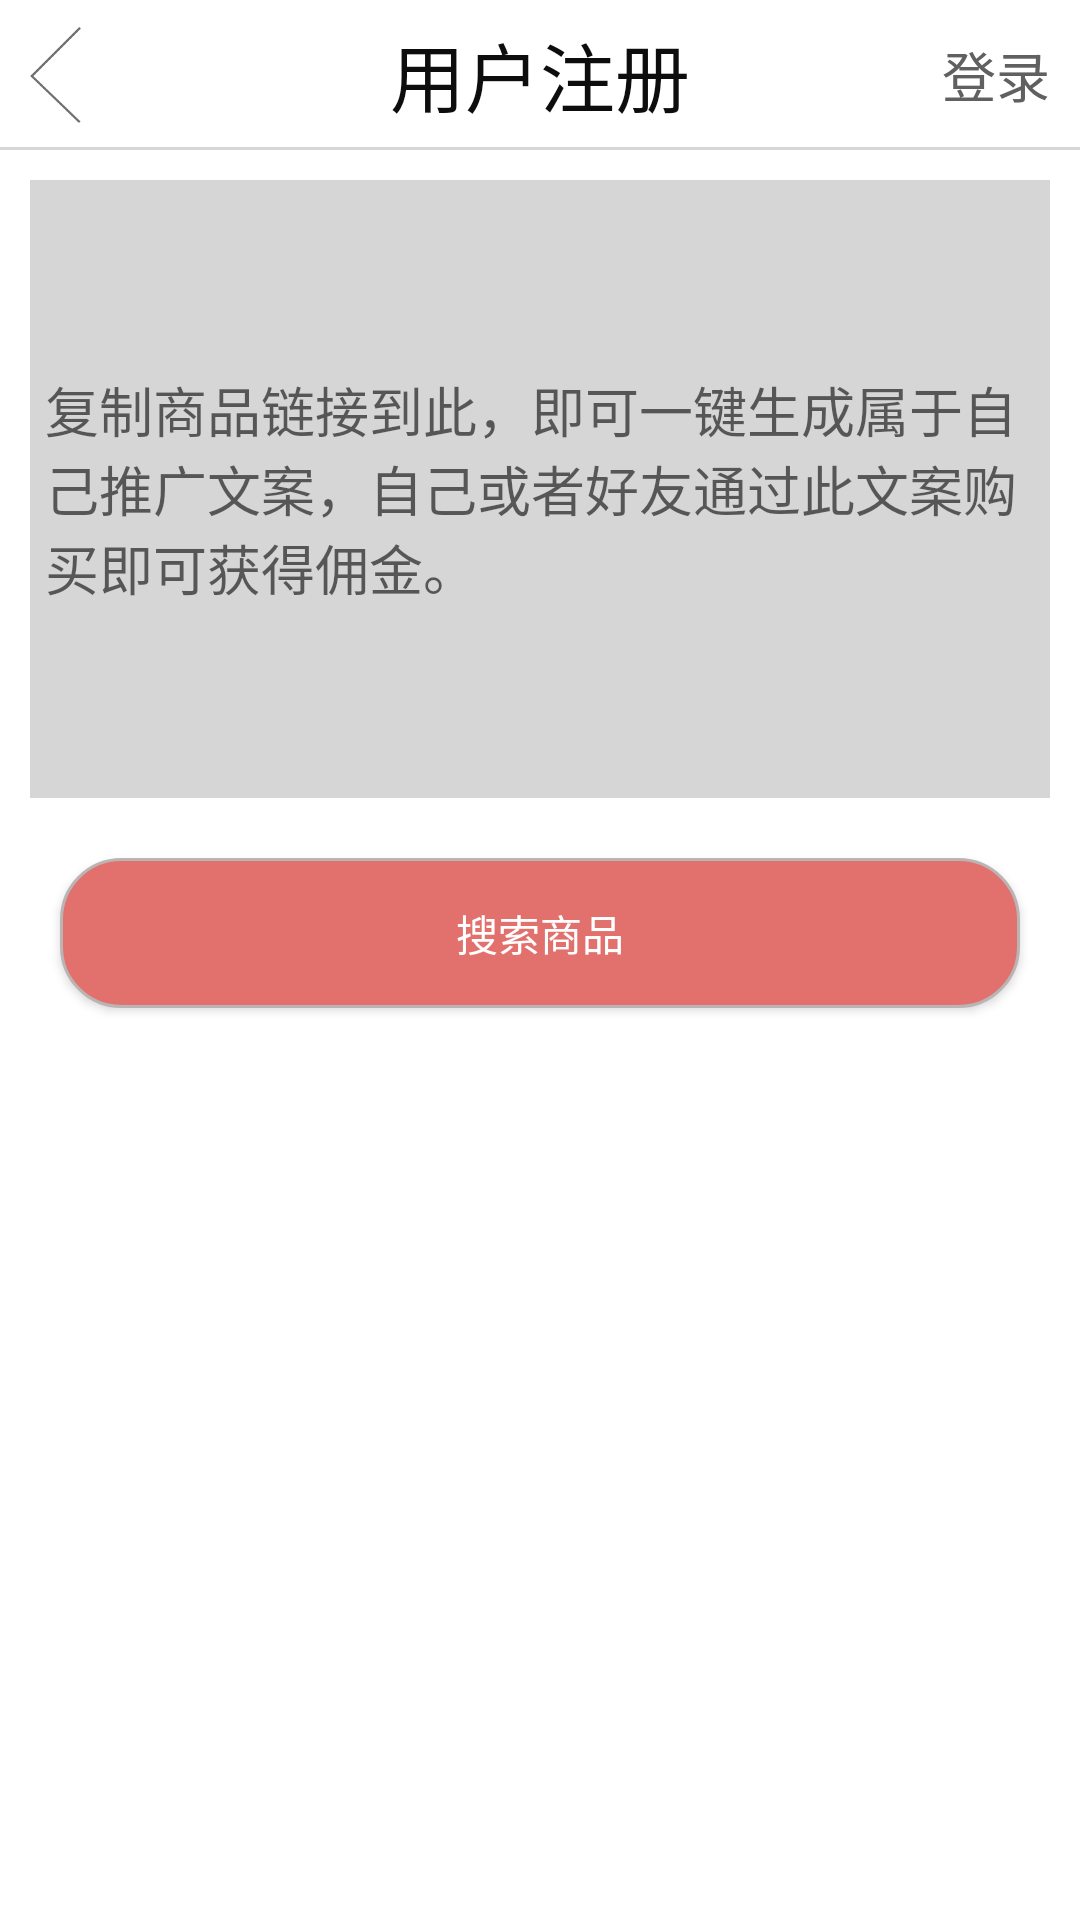

Named icons in this screenshot (1080x1920) and their centers, [x,y]:
back: [55,75]
